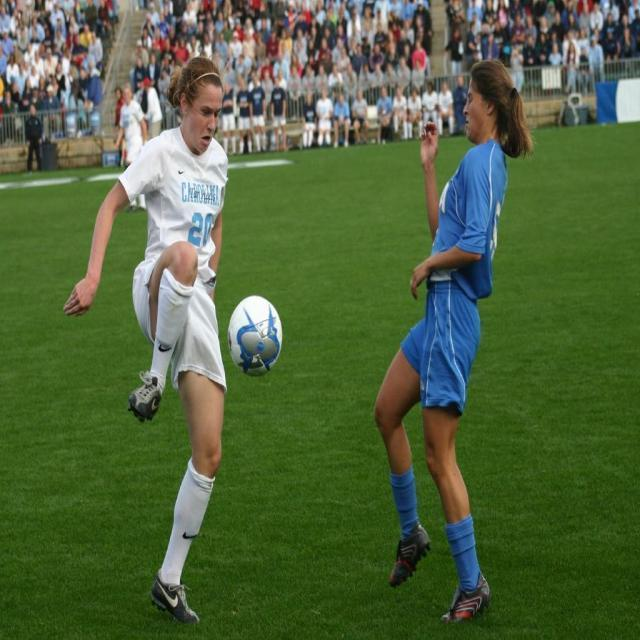football: (221, 276, 298, 399)
